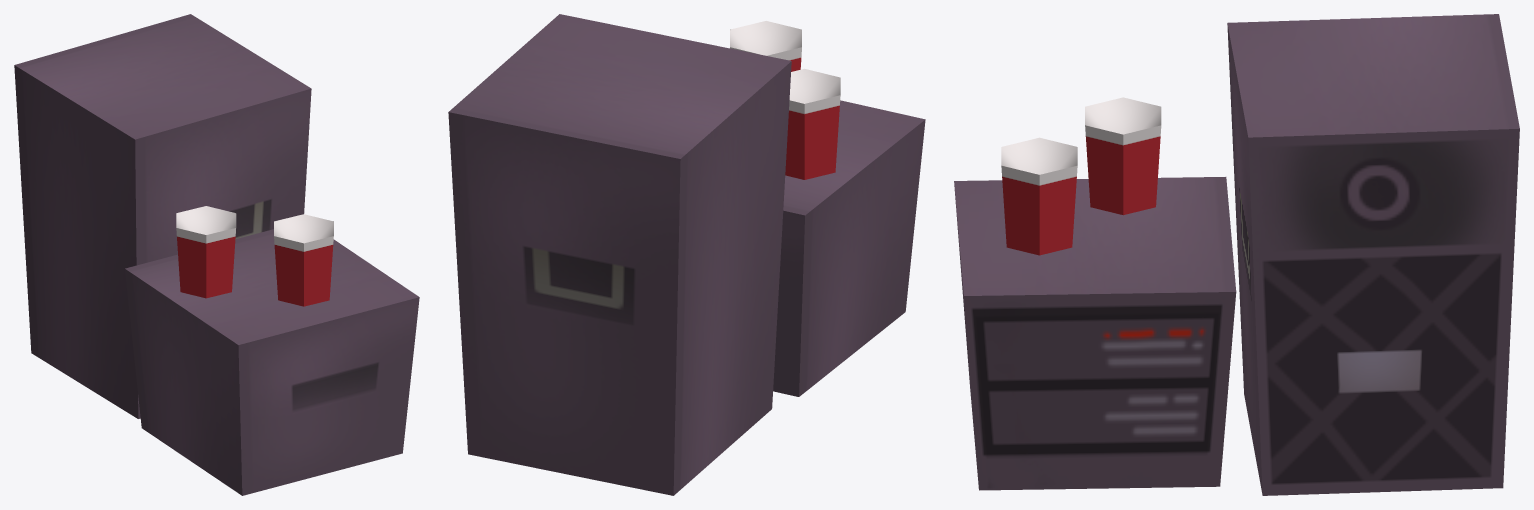
The model's file is Speaker.fbx.
3 views of the same model, side by side, from view 1: azimuth 30°, elevation 25°; view 2: azimuth 150°, elevation 25°; view 3: azimuth 270°, elevation 25° (orthographic). The views are drawn at different scales.
Visible parts, largest first — view 1: speaker1, speaker2; view 2: speaker1, speaker2; view 3: speaker1, speaker2.
Boxes of the visible parts, x1,y1,x2,y2 form: speaker1: [14, 14, 311, 418]; speaker2: [125, 206, 419, 495]; speaker1: [448, 14, 791, 495]; speaker2: [730, 21, 925, 396]; speaker1: [1227, 14, 1519, 495]; speaker2: [954, 97, 1236, 490].
Bounding box in the file's own units: 0.059 × 0.0812 × 0.114.
